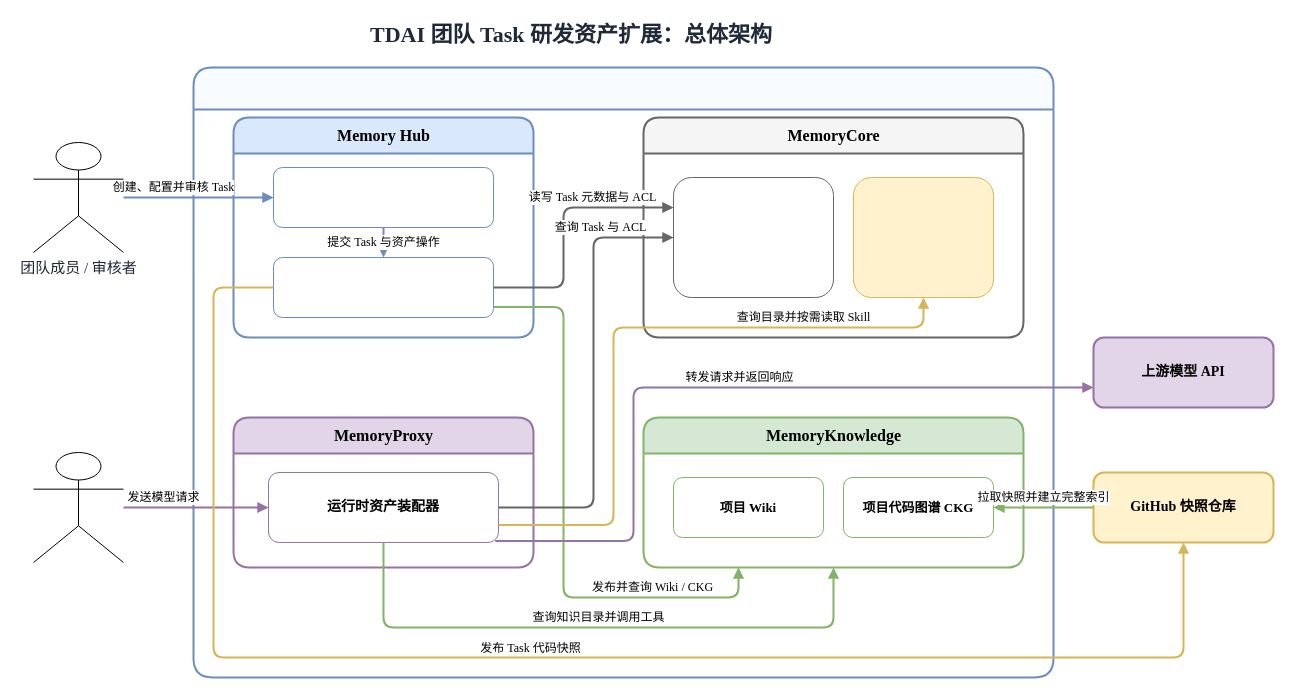
The diagram is 1292 pixels wide and 695 high, and some of its shapes have lost their labels. Each missing label, with the centre of its shape:
"Codex / CodeBuddy" goes at (78,507).
"Panel API" goes at (383,287).
"Skill 资产 Agent 固定绑定、Task 临时启用" goes at (923,237).
"Task 与团队元数据 状态、ACL、关联任务、资产使用与沉淀记录" goes at (753,237).
"Task 看板与资产审核 UI" goes at (383,197).
